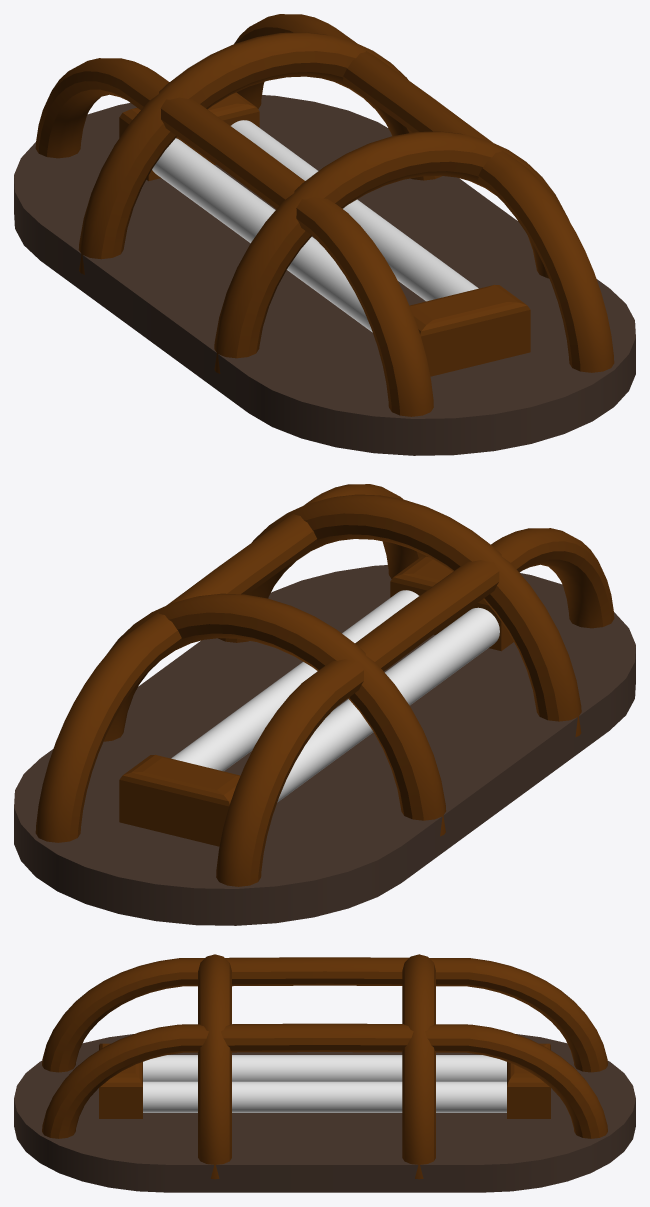
File: OutDoor bunker light.fbx
The picture shows the model from 3 angles, top to bottom: view 1: azimuth 30°, elevation 25°; view 2: azimuth 150°, elevation 25°; view 3: azimuth 270°, elevation 25°; orthographic projection. The views are drawn at different scales.
Parts seen in each view (by area): view 1: Sphere, Torus.003, Torus.002, Torus, Torus.001, Cylinder.001, Cube.001, Cylinder, Cube; view 2: Sphere, Torus.003, Torus.002, Torus, Torus.001, Cylinder.001, Cube, Cylinder, Cube.001; view 3: Sphere, Torus.002, Torus.003, Cylinder, Cylinder.001, Torus.001, Torus, Cube, Cube.001.
Boxes of the visible parts, x1,y1,x2,y2 form: Sphere: (14, 95, 635, 455); Torus.003: (35, 58, 433, 416); Torus.002: (234, 14, 614, 372); Torus: (78, 32, 441, 274); Torus.001: (214, 131, 569, 373); Cylinder.001: (152, 138, 372, 332); Cube.001: (409, 284, 530, 376); Cylinder: (231, 120, 478, 301); Cube: (119, 92, 259, 181); Sphere: (14, 565, 635, 925); Torus.003: (216, 528, 614, 886); Torus.002: (35, 484, 428, 842); Torus: (103, 593, 446, 836); Torus.001: (218, 494, 581, 737); Cylinder.001: (277, 607, 499, 802); Cube: (119, 754, 240, 846); Cylinder: (171, 590, 418, 771); Cube.001: (390, 556, 513, 651); Sphere: (14, 1034, 635, 1192); Torus.002: (42, 1023, 607, 1138); Torus.003: (42, 957, 607, 1072); Cylinder: (143, 1081, 506, 1112); Cylinder.001: (143, 1055, 506, 1081); Torus.001: (198, 954, 231, 1179); Torus: (402, 954, 435, 1179); Cube: (507, 1043, 550, 1118); Cube.001: (99, 1043, 142, 1118).
Bounding box in the file's own units: 202 × 111 × 396.
